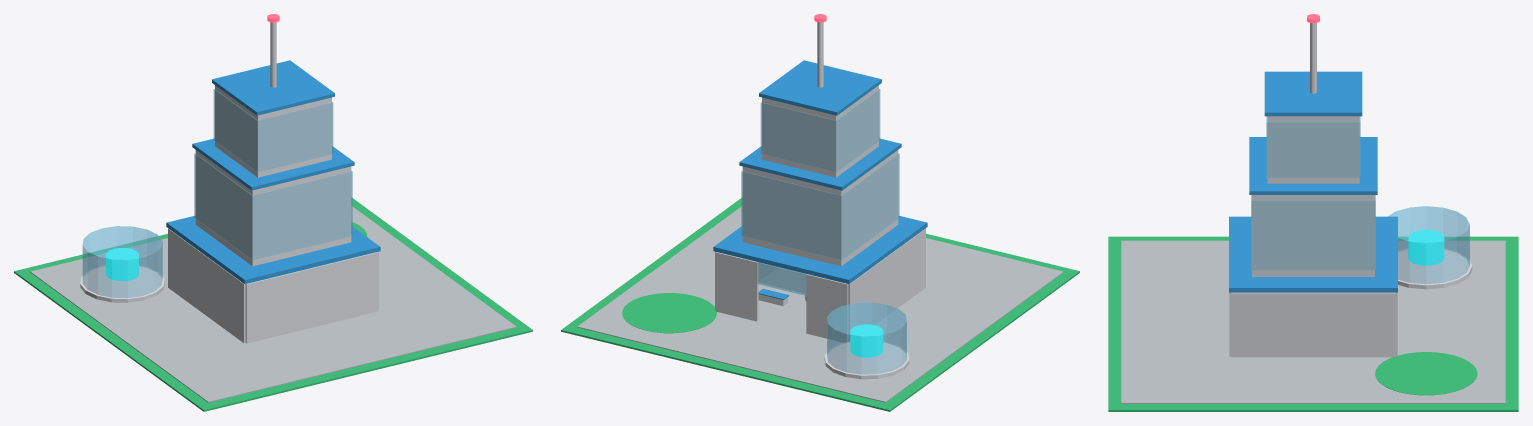
Rendered from tech_skyscraper.glb.
3 views of the same model, side by side, from view 1: azimuth 30°, elevation 25°; view 2: azimuth 150°, elevation 25°; view 3: azimuth 270°, elevation 25° (orthographic). The views are drawn at different scales.
Parts seen in each view (by area): view 1: Tech_Curbs, Tower_Tier2_Body, Tower_Tier2_Glass, Atrium_Wall_Back, Tech_Grass_Base, Tower_Tier3_Body, Tower_Tier3_Glass, Dome_Glass, Atrium_Wall_Left, Tower_Tier1_Slab, Tower_Tier3_Slab, Tower_Tier2_Slab (+2 smaller); view 2: Tech_Curbs, Tower_Tier2_Body, Tower_Tier2_Glass, Tech_Grass_Base, Tower_Tier3_Body, Tower_Tier3_Glass, Dome_Glass, Atrium_Wall_Left, Tower_Tier1_Slab, Tower_Tier3_Slab, Drone_Pad_Base, Atrium_Wall_Front_R (+5 smaller); view 3: Tech_Curbs, Atrium_Wall_Right, Tower_Tier2_Body, Tower_Tier2_Glass, Tech_Grass_Base, Tower_Tier3_Body, Tower_Tier1_Slab, Tower_Tier3_Glass, Dome_Glass, Tower_Tier3_Slab, Drone_Pad_Base, Tower_Tier2_Slab (+3 smaller).
Boxes of the visible parts, left/top/right/bottom form: Tech_Curbs: left=30, top=206, right=516, bottom=402; Tower_Tier2_Body: left=195, top=150, right=351, bottom=266; Tower_Tier2_Glass: left=194, top=153, right=352, bottom=260; Atrium_Wall_Back: left=245, top=252, right=378, bottom=343; Tech_Grass_Base: left=14, top=197, right=532, bottom=411; Tower_Tier3_Body: left=215, top=85, right=331, bottom=177; Tower_Tier3_Glass: left=213, top=89, right=333, bottom=172; Dome_Glass: left=82, top=226, right=162, bottom=297; Atrium_Wall_Left: left=168, top=228, right=245, bottom=343; Tower_Tier1_Slab: left=166, top=216, right=380, bottom=283; Tower_Tier3_Slab: left=212, top=60, right=334, bottom=115; Tower_Tier2_Slab: left=192, top=138, right=354, bottom=190; Tech_Curbs: left=577, top=206, right=1063, bottom=402; Tower_Tier2_Body: left=742, top=150, right=898, bottom=266; Tower_Tier2_Glass: left=741, top=153, right=899, bottom=260; Tech_Grass_Base: left=561, top=197, right=1079, bottom=411; Tower_Tier3_Body: left=762, top=85, right=878, bottom=177; Tower_Tier3_Glass: left=760, top=89, right=880, bottom=172; Dome_Glass: left=827, top=302, right=906, bottom=374; Atrium_Wall_Left: left=848, top=228, right=925, bottom=341; Tower_Tier1_Slab: left=713, top=216, right=927, bottom=283; Tower_Tier3_Slab: left=759, top=60, right=881, bottom=115; Drone_Pad_Base: left=622, top=293, right=716, bottom=333; Atrium_Wall_Front_R: left=715, top=252, right=758, bottom=321; Tech_Curbs: left=1121, top=240, right=1505, bottom=403; Atrium_Wall_Right: left=1231, top=292, right=1395, bottom=357; Tower_Tier2_Body: left=1252, top=195, right=1374, bottom=276; Tower_Tier2_Glass: left=1251, top=195, right=1375, bottom=270; Tech_Grass_Base: left=1108, top=236, right=1518, bottom=411; Tower_Tier3_Body: left=1267, top=116, right=1359, bottom=183; Tower_Tier1_Slab: left=1229, top=216, right=1397, bottom=292; Tower_Tier3_Glass: left=1266, top=116, right=1360, bottom=177; Dome_Glass: left=1388, top=206, right=1469, bottom=283; Tower_Tier3_Slab: left=1264, top=71, right=1362, bottom=116; Drone_Pad_Base: left=1375, top=352, right=1477, bottom=395; Tower_Tier2_Slab: left=1249, top=137, right=1377, bottom=194.
Size of the model in its own units: 80 by 66.4 by 80.
